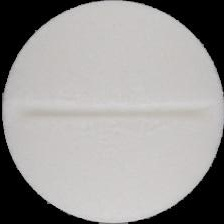76237-196: (0, 0, 224, 224)
